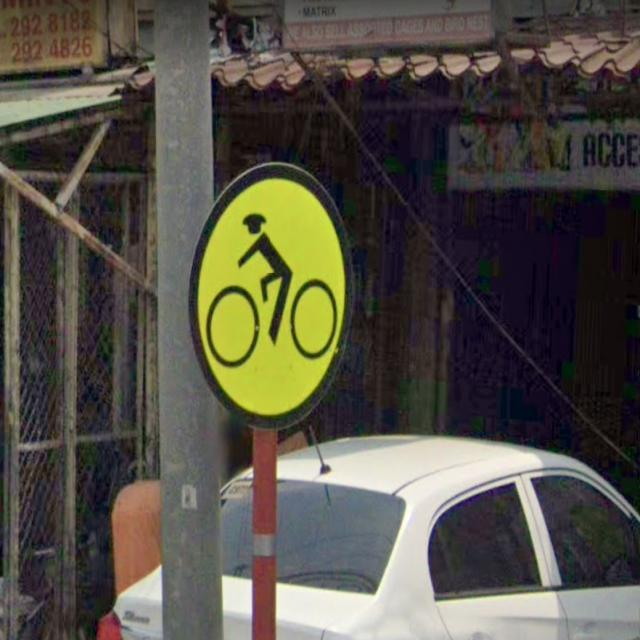bike lane: (188, 162, 353, 428)
